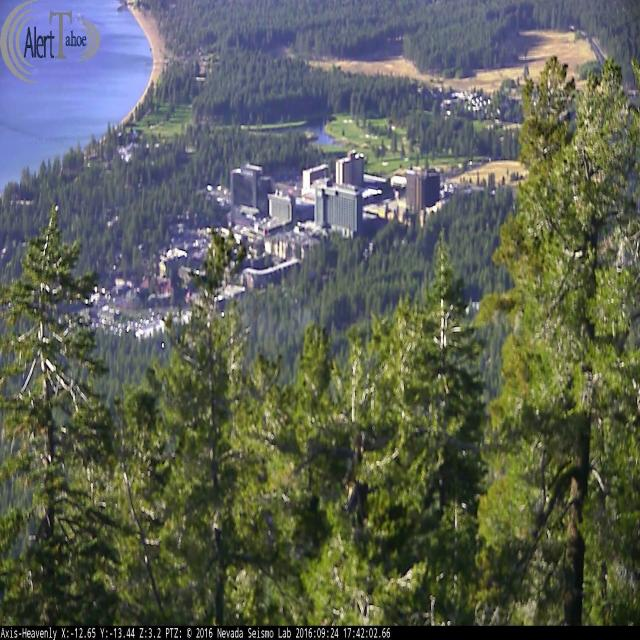smoke: (244, 304, 317, 354)
